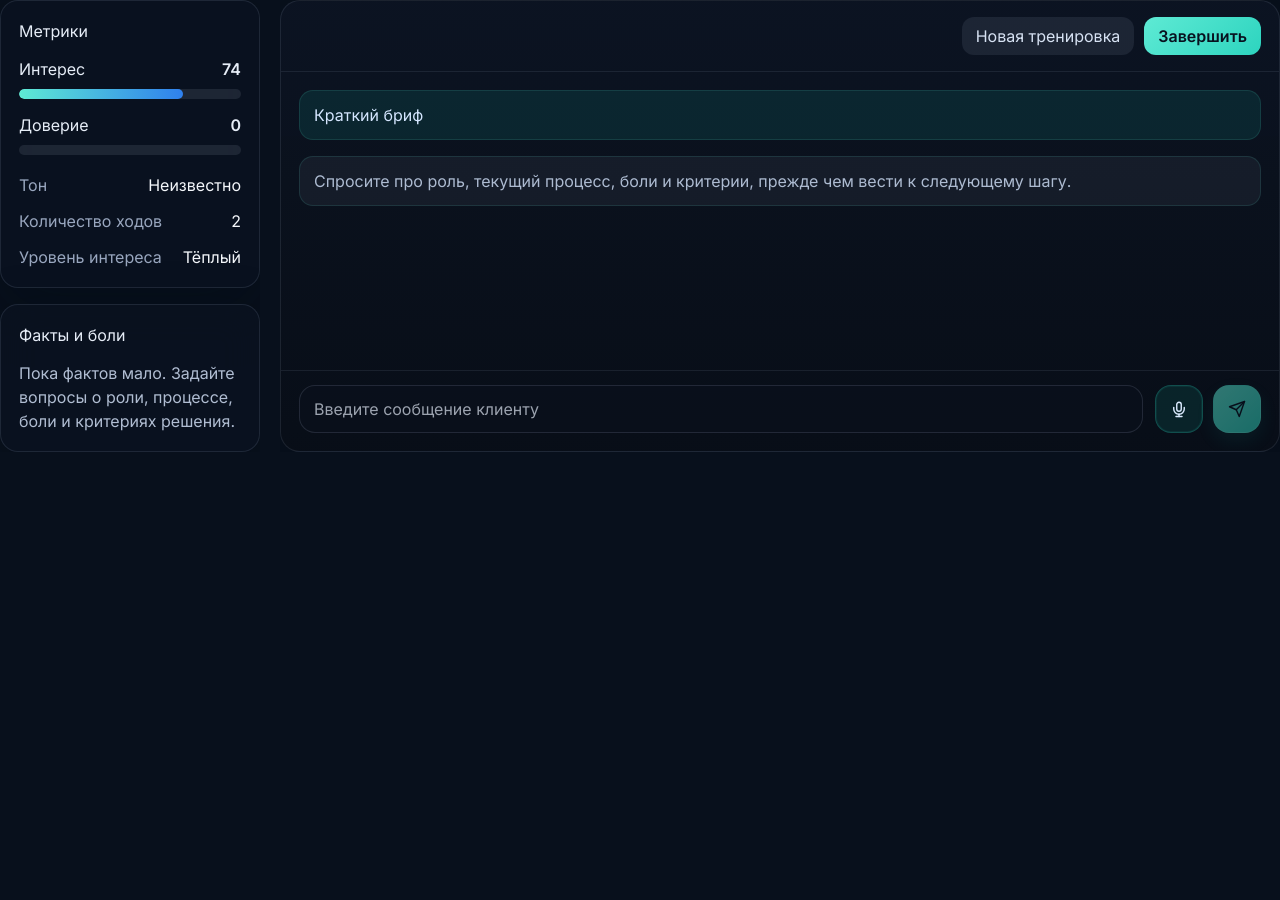
Test: TrainerPage › opens the report modal immediately after finish returns a report payload
Click the button "Завершить": coordinates (1203, 36) [1144,17,1261,55]
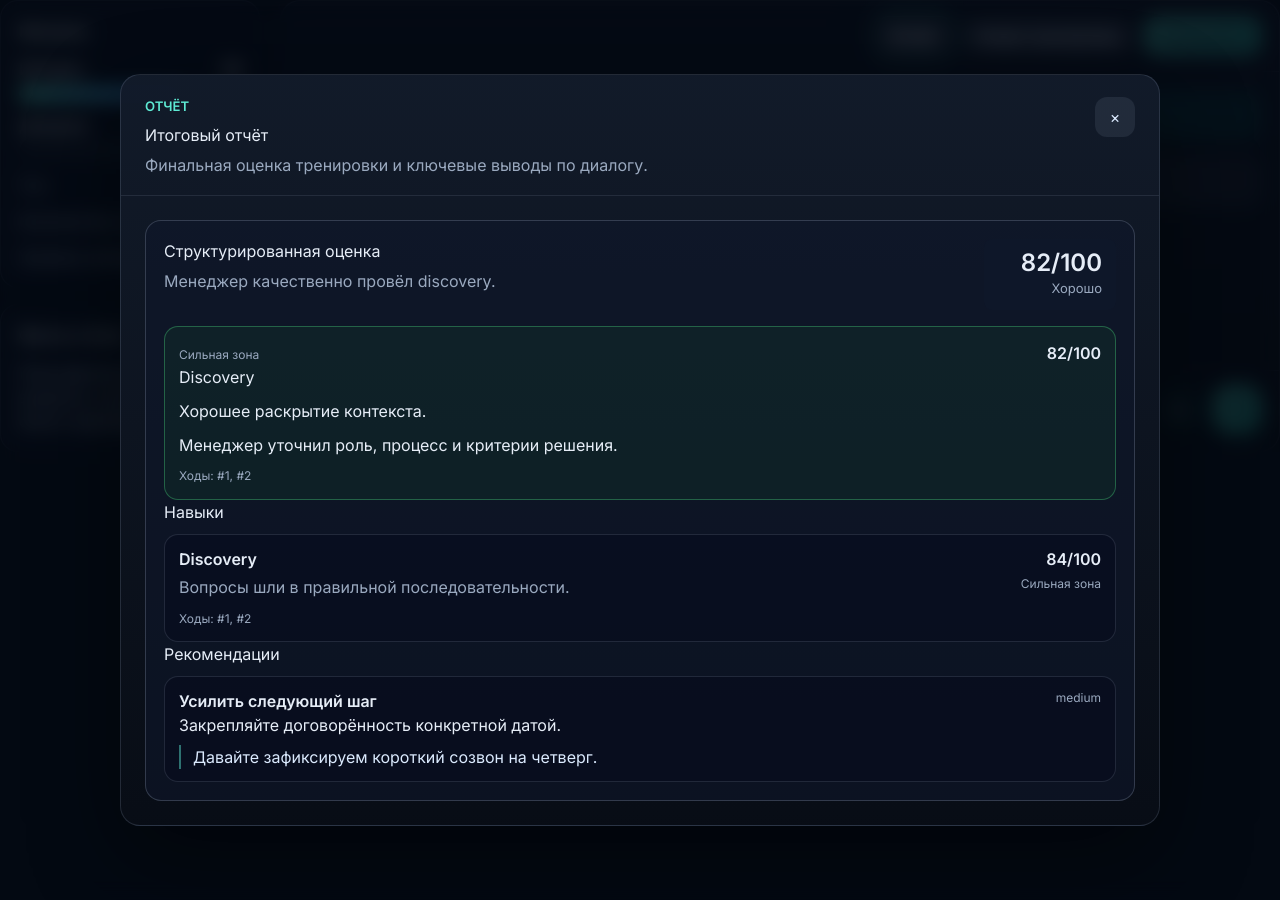
Expected: the dialog "Итоговый отчёт" is shown
Expected: the heading "Структурированная оценка" is shown, [164,241,380,261]
Expected: the text "Менеджер качественно провёл discovery." is shown, [164,269,496,293]
